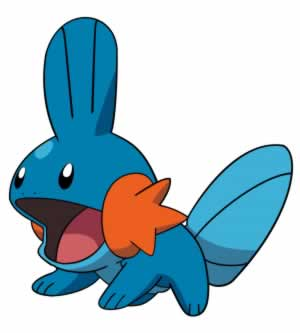mudkip: (13, 15, 291, 324)
